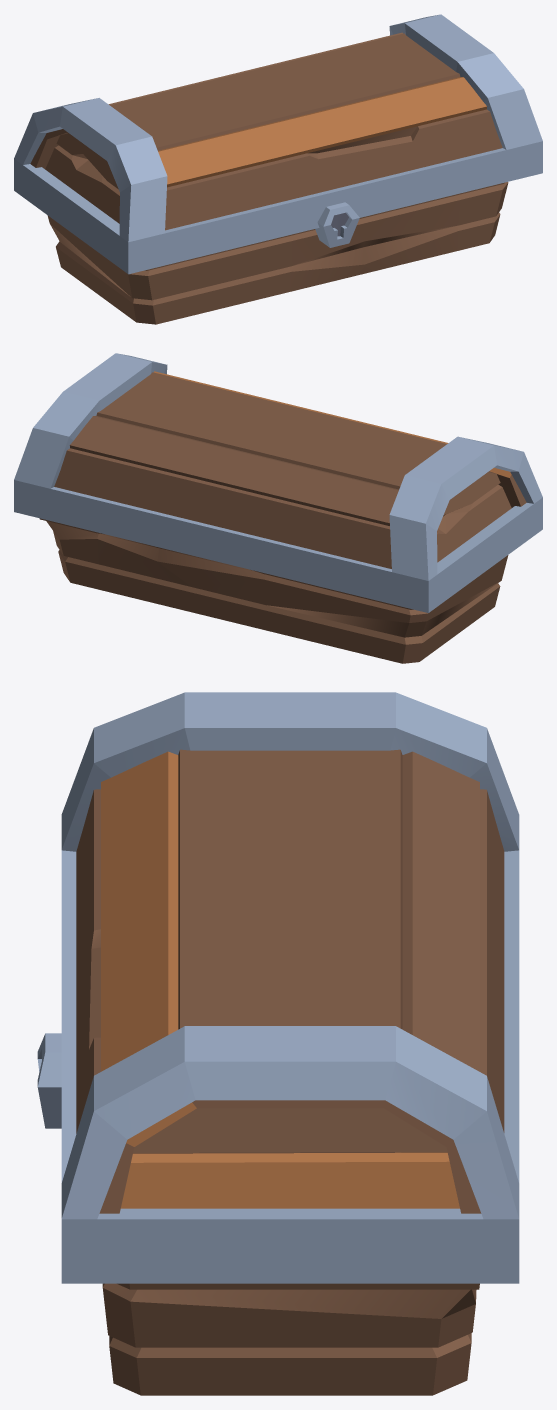
File: Chest_Large.fbx
The picture shows the model from 3 angles, top to bottom: view 1: azimuth 30°, elevation 25°; view 2: azimuth 150°, elevation 25°; view 3: azimuth 270°, elevation 25°; orthographic projection. The views are drawn at different scales.
Parts seen in each view (by area): view 1: Chest_Large; view 2: Chest_Large; view 3: Chest_Large.
Boxes of the visible parts, x1,y1,x2,y2 form: Chest_Large: (14,14,542,324); Chest_Large: (14,353,542,663); Chest_Large: (37,692,519,1395).
Bounding box in the file's own units: 2.05 × 1.03 × 0.8096.
